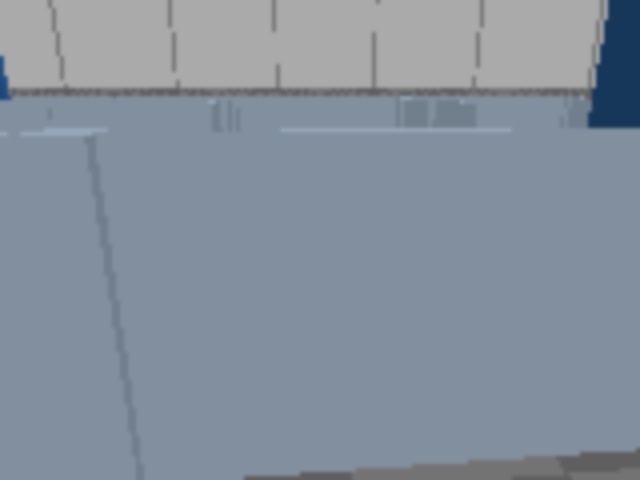person: (579, 0, 638, 303), (0, 0, 21, 190)
